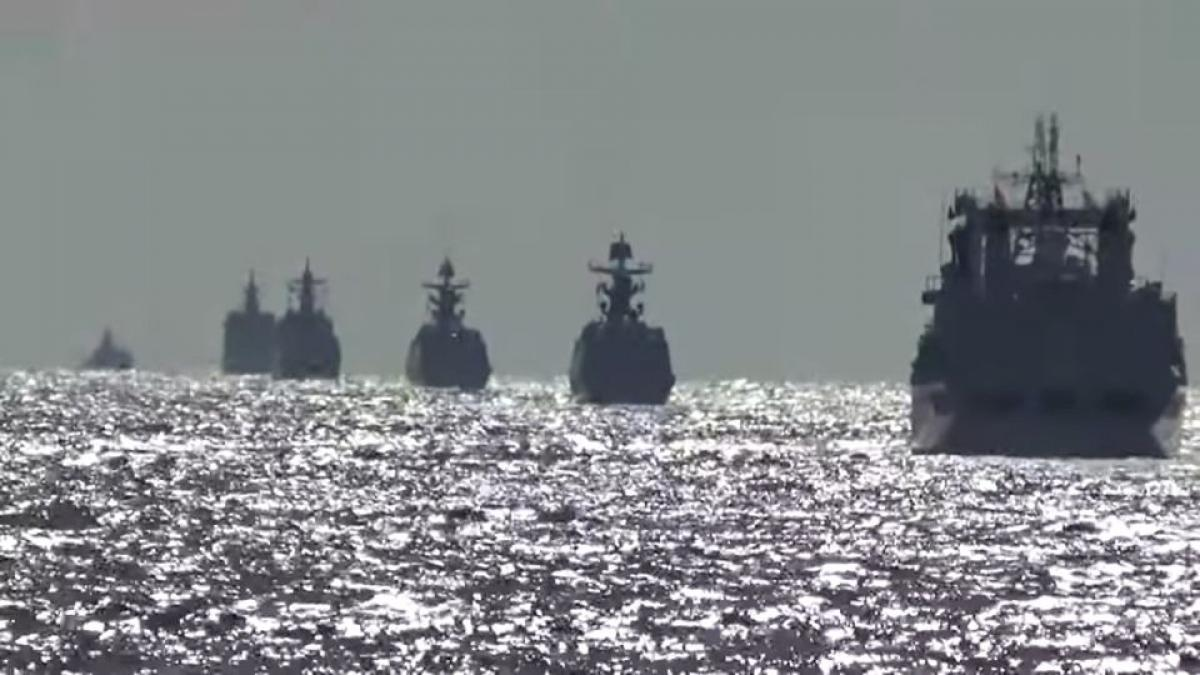MIL_Ship: (897, 106, 1190, 465), (564, 225, 677, 408), (400, 251, 496, 395), (267, 255, 342, 385), (215, 261, 276, 378), (77, 321, 144, 376)
